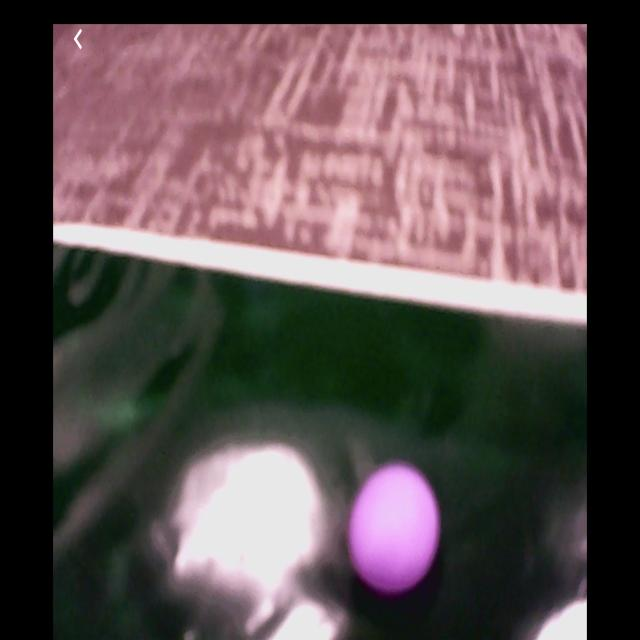ball: (350, 463, 442, 593)
